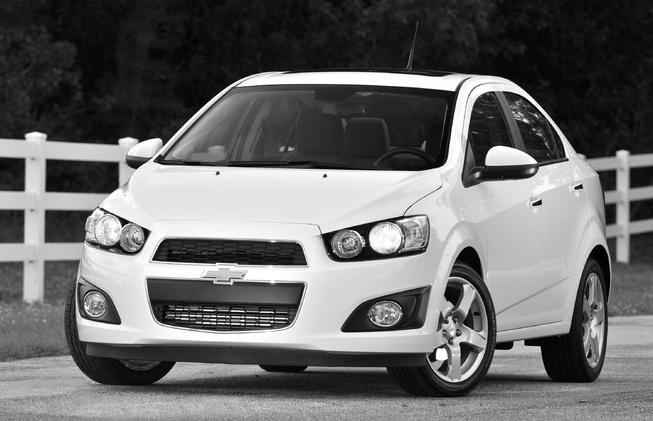car: (66, 62, 617, 401)
